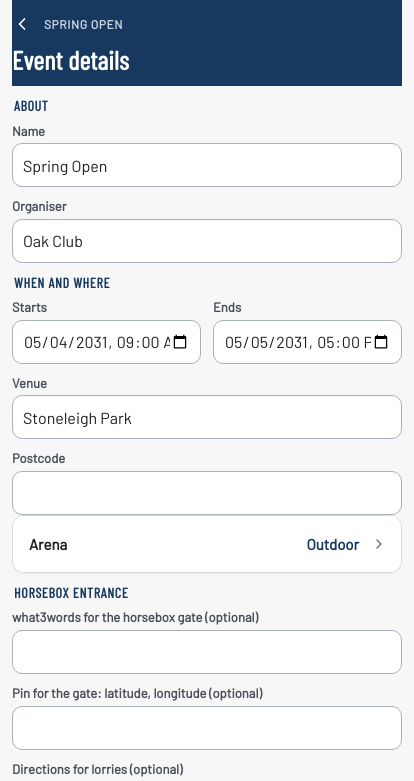
Test: EventDetailsPage › does not save an unchanged field, and refuses an empty name
Click the field labelled "Venue" at x=207, y=418, box [12,396,402,440]
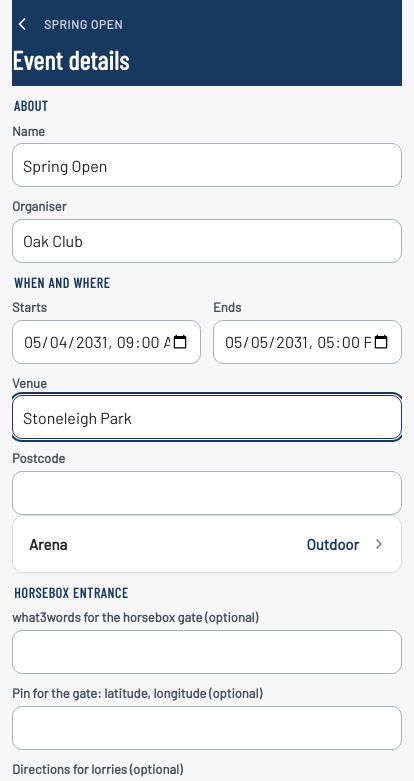
Press Tab
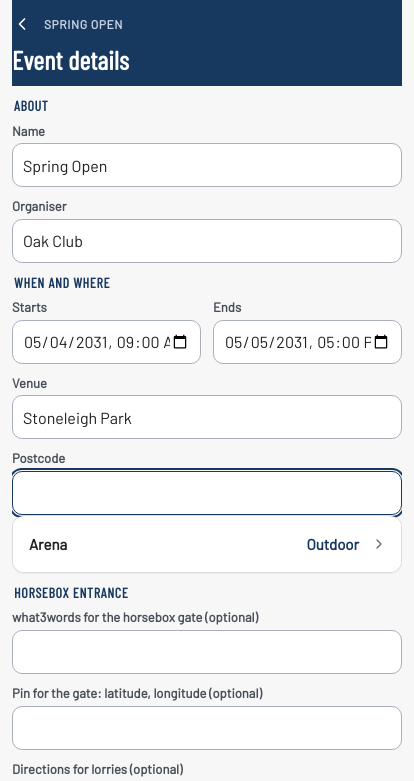
Clear the field labelled "Name" at x=207, y=165, box [12,143,402,187]
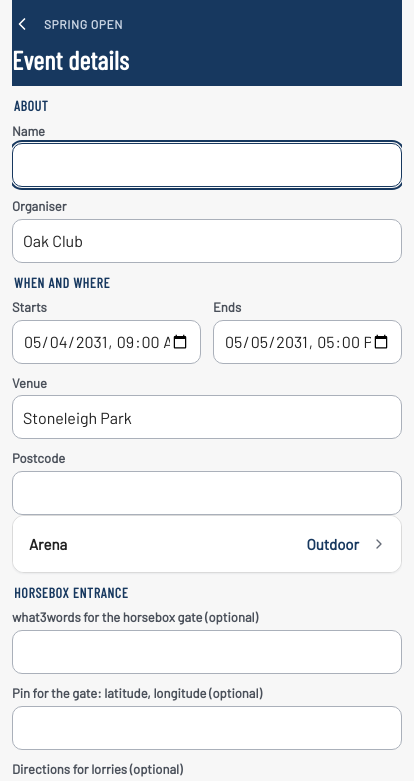
Press Tab
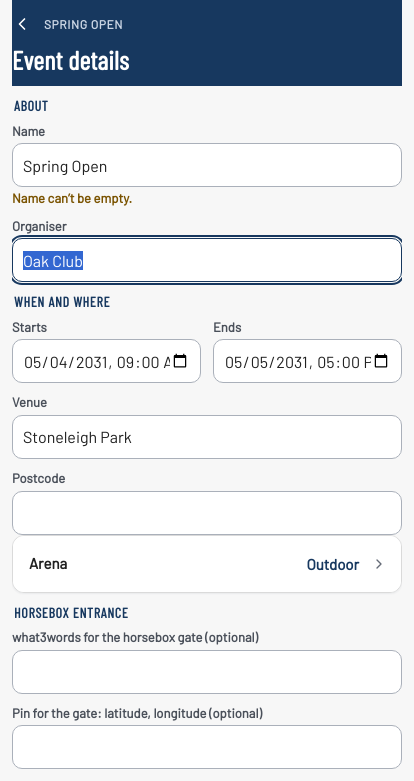
expect the message reads "Name can’t be empty.": met, box [12,190,132,206]
